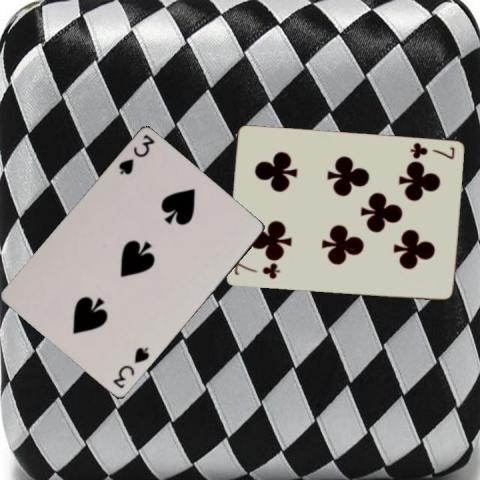3s: (110, 344, 151, 390), (115, 131, 156, 177)
7c: (231, 260, 281, 281), (407, 140, 456, 161)
